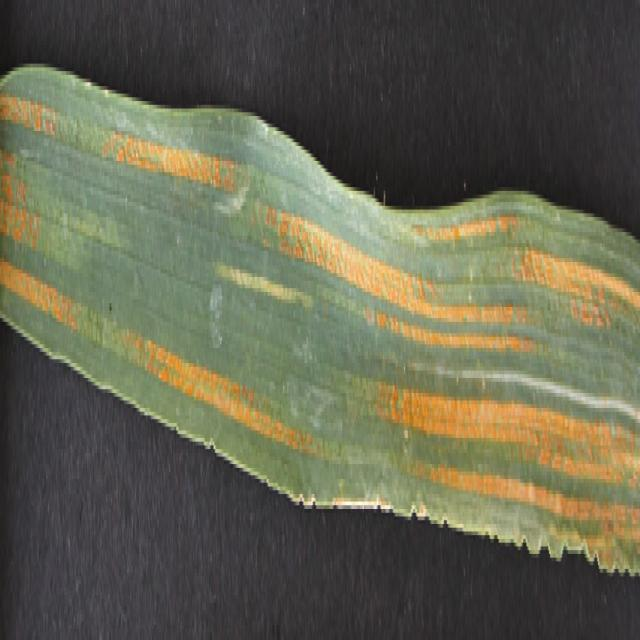leaf rust: (1, 86, 640, 557)
